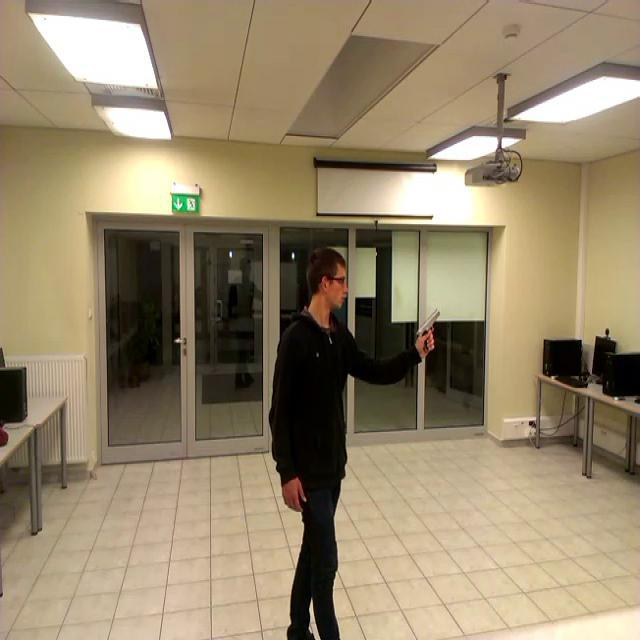Gun: (418, 308, 442, 352)
